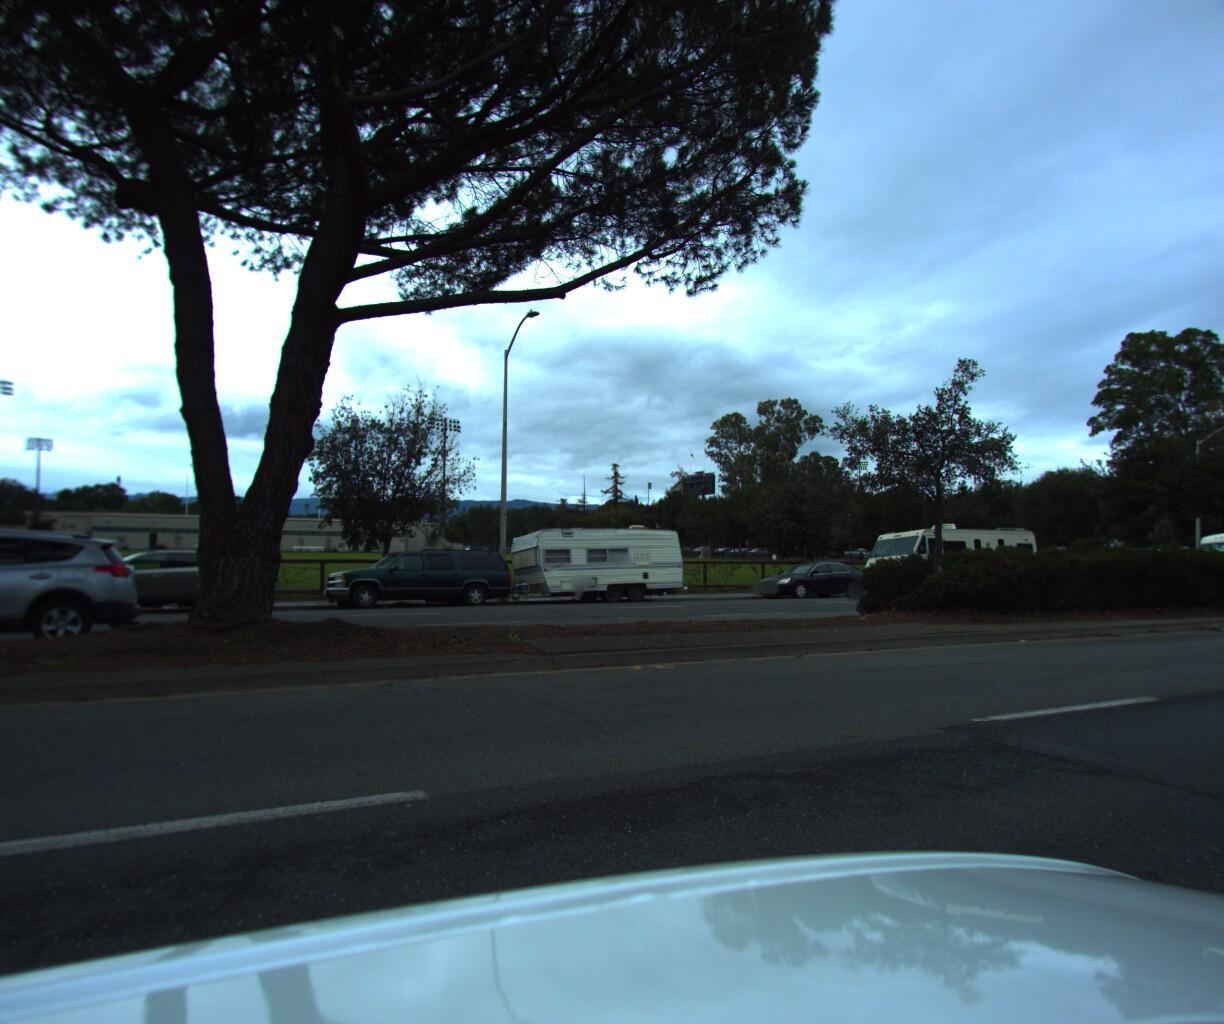car: (0, 518, 133, 666), (35, 545, 253, 623), (313, 546, 521, 613), (741, 555, 871, 602)
other_vehicle: (500, 517, 690, 605), (853, 520, 1044, 601), (1183, 518, 1224, 588)
